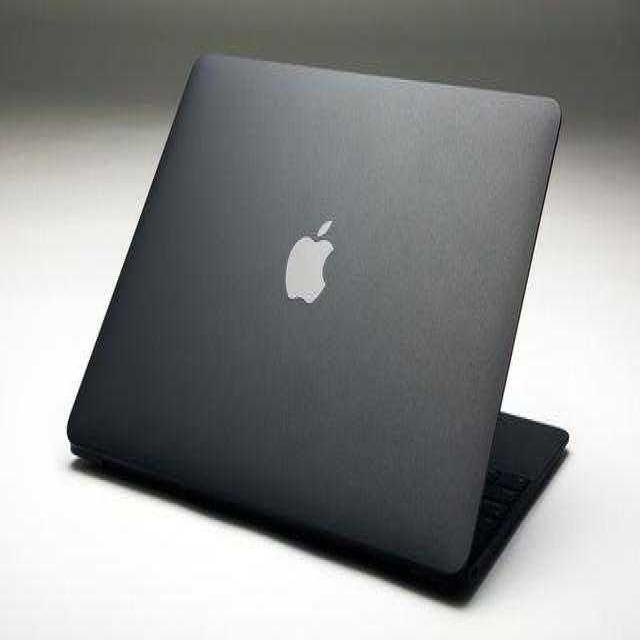laptop: (64, 56, 558, 586)
